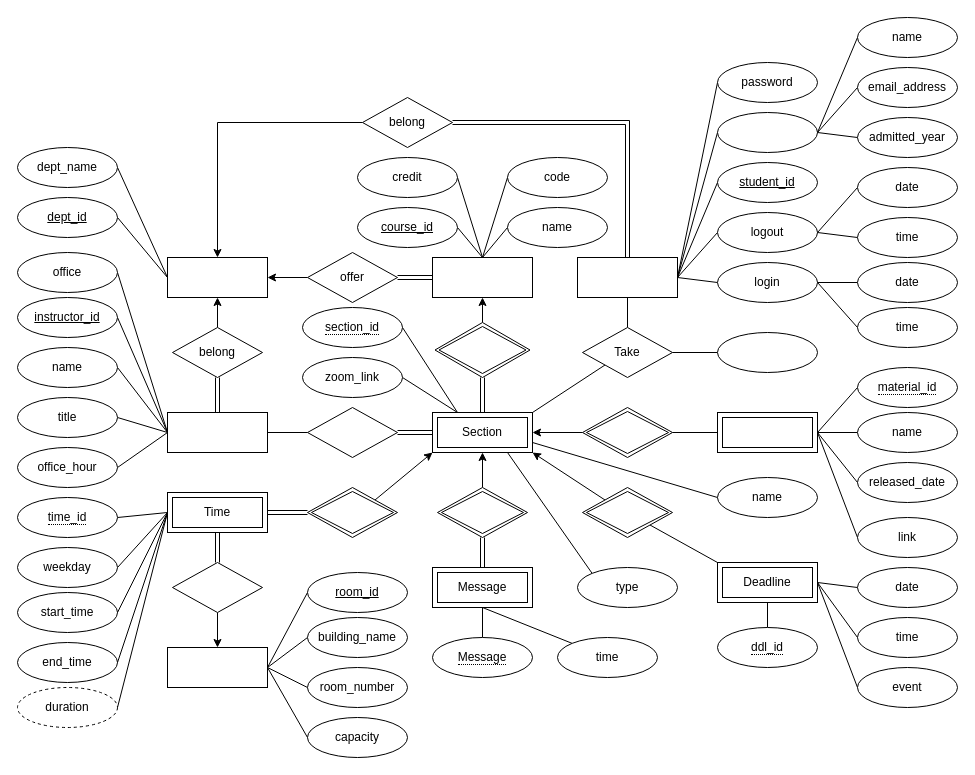
The diagram is 975 pixels wide and 775 high, and some of its shapes have lost their labels. The shapes that lost their labels are listed below. From the top down, each one's centre as x and y in pixels, then its label:
At pixel 767 132: "info".
At pixel 217 277: "Department".
At pixel 482 277: "Course".
At pixel 627 277: "Student".
At pixel 482 350: "divide".
At pixel 767 352: "this_sem".
At pixel 217 432: "Instructor".
At pixel 352 432: "Teach".
At pixel 627 432: "in".
At pixel 767 432: "Material".
At pixel 352 512: "has".
At pixel 482 512: "contains".
At pixel 627 512: "include".
At pixel 217 587: "Hold".
At pixel 217 667: "Room".
